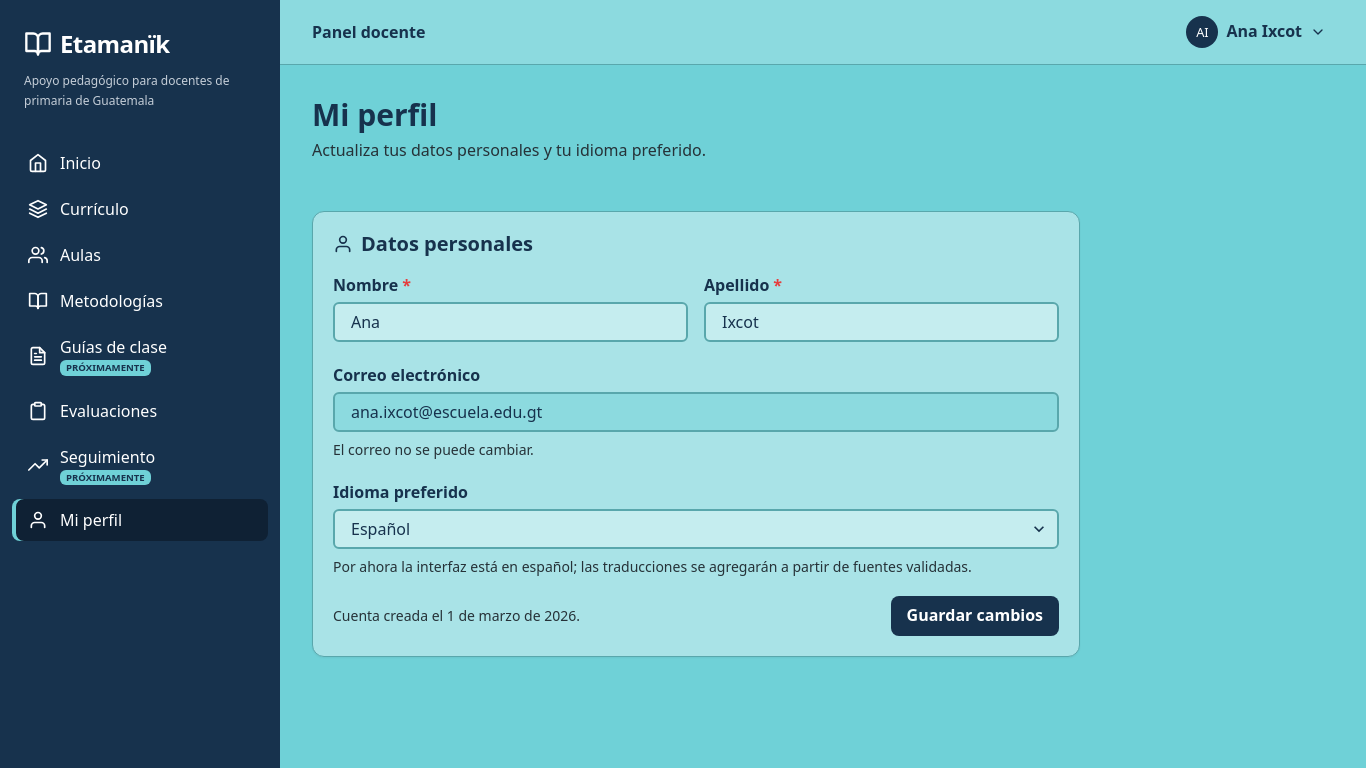
Scenario: Perfil del docente › envía solo los campos cambiados y actualiza el nombre en el encabezado
Replace the text in the field labelled "Apellido*" with "Cac Pop": (882, 322) [704, 302, 1059, 342]
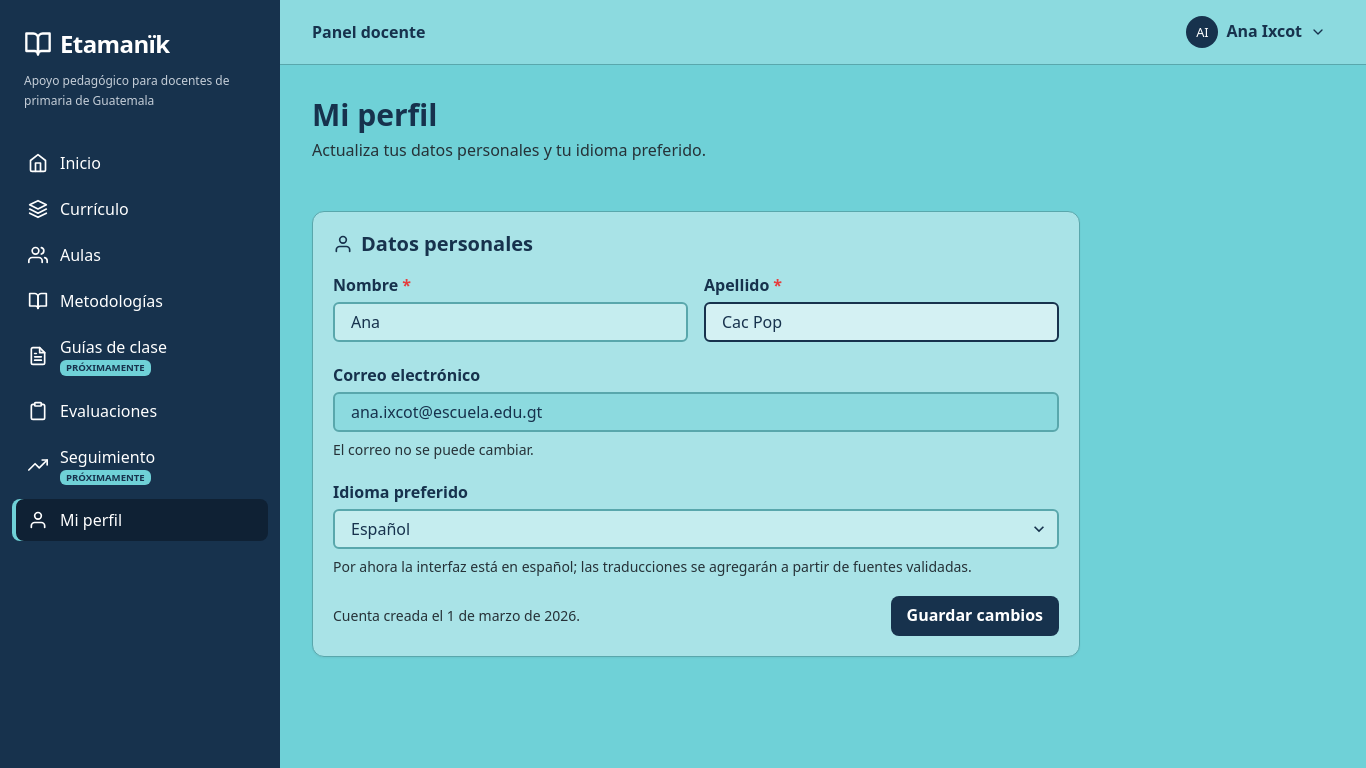
Select "Mam" in the dropdown labelled "Idioma preferido": (696, 529) [333, 509, 1059, 549]
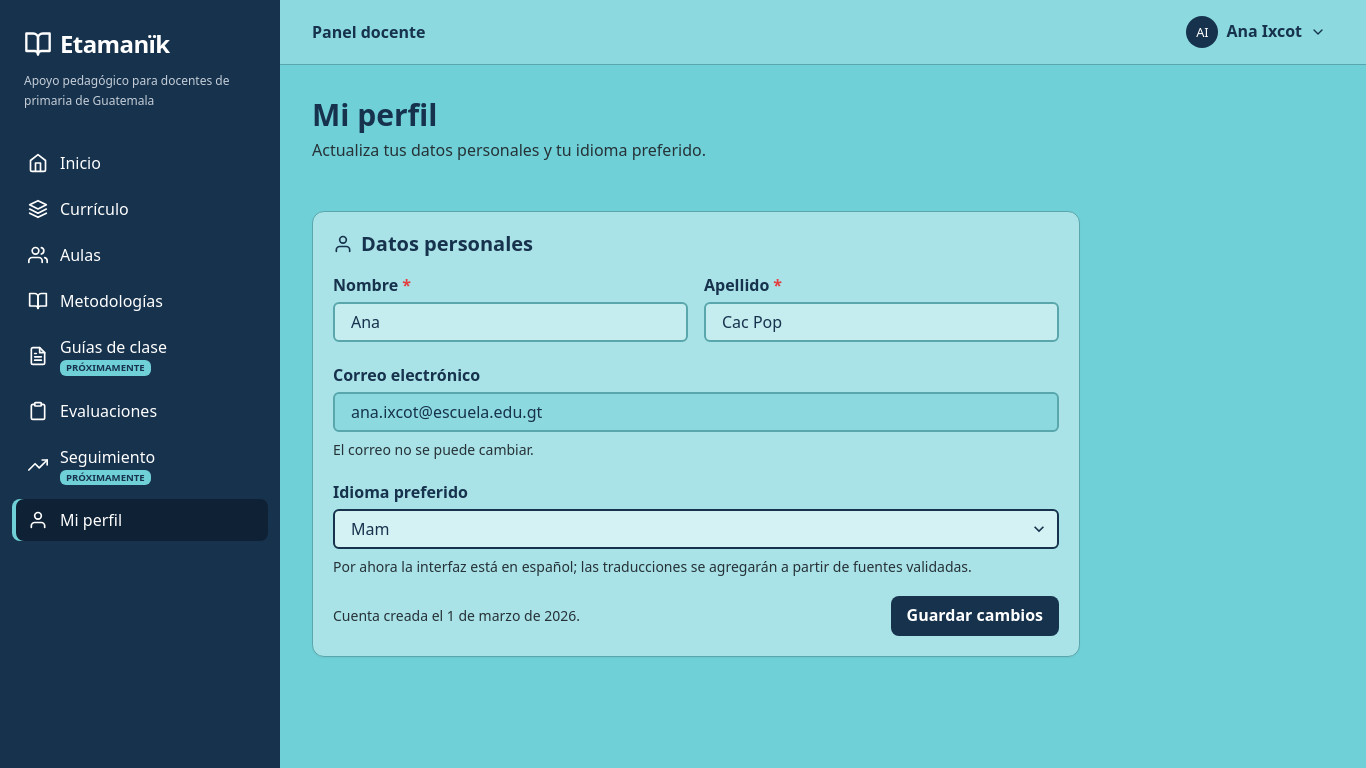
Click the button "Guardar cambios": (975, 616) [891, 596, 1059, 636]
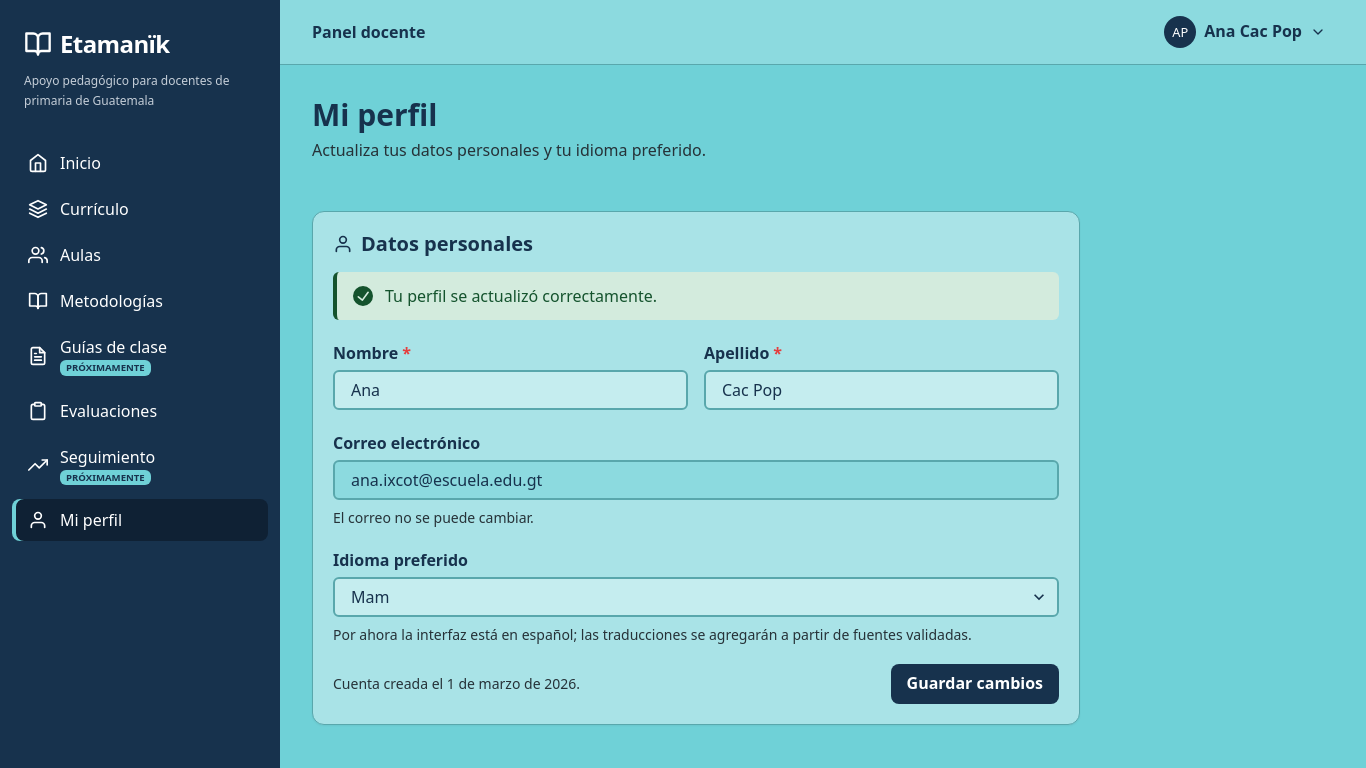
Expected: the text "Tu perfil se actualizó correctamente." is shown, [385, 284, 657, 308]
Expected: the text "Ana Cac Pop" is shown, [1204, 22, 1302, 42]
